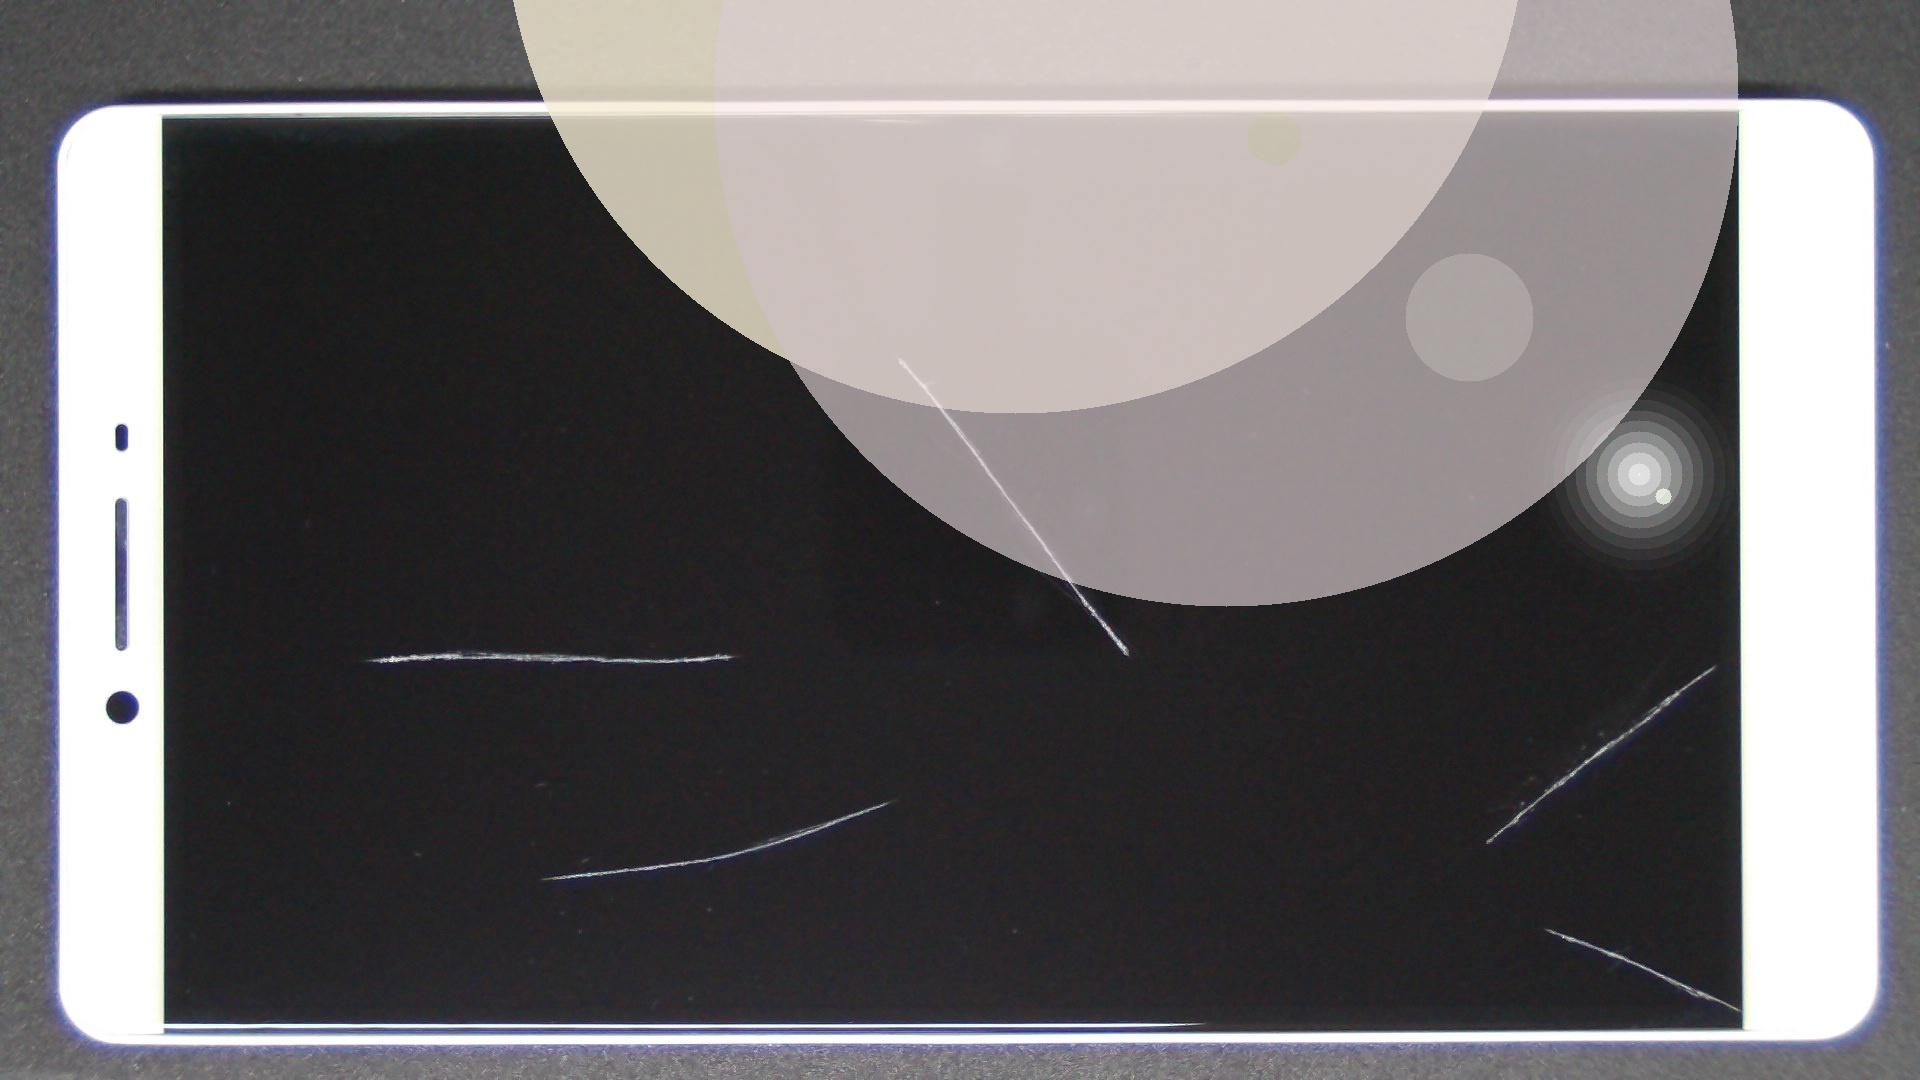oil: (771, 463, 1920, 1080), (858, 331, 1920, 997), (444, 400, 1332, 1080), (448, 175, 1344, 533), (223, 323, 669, 972)
